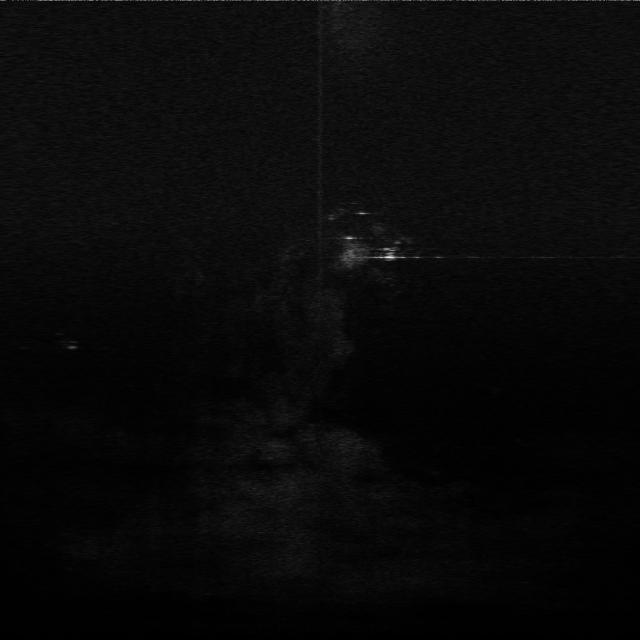rov: (380, 244, 400, 262)
